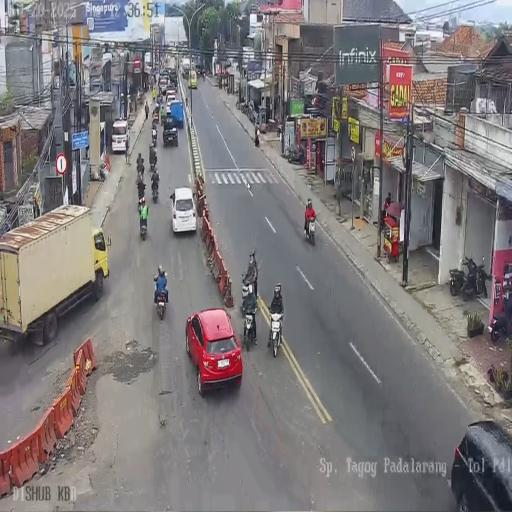3: (1, 206, 110, 350), (166, 56, 176, 74), (181, 58, 190, 77)
car: (451, 418, 512, 510), (186, 307, 244, 394), (170, 186, 196, 234), (112, 116, 130, 154), (162, 118, 178, 146), (166, 91, 176, 110), (158, 76, 168, 94), (188, 68, 197, 88), (195, 64, 201, 74)
truck: (490, 294, 512, 341), (241, 296, 258, 352), (462, 255, 482, 299), (267, 309, 284, 357), (153, 276, 168, 318), (449, 264, 465, 296), (304, 210, 316, 245), (287, 144, 305, 164), (139, 208, 148, 241), (151, 178, 159, 204), (240, 98, 250, 118), (150, 152, 158, 172), (152, 127, 158, 146), (138, 163, 144, 182), (276, 120, 282, 138), (160, 104, 166, 122), (144, 100, 149, 120), (254, 130, 260, 146), (153, 108, 159, 124), (156, 90, 162, 104), (235, 99, 241, 110), (202, 70, 206, 81)
